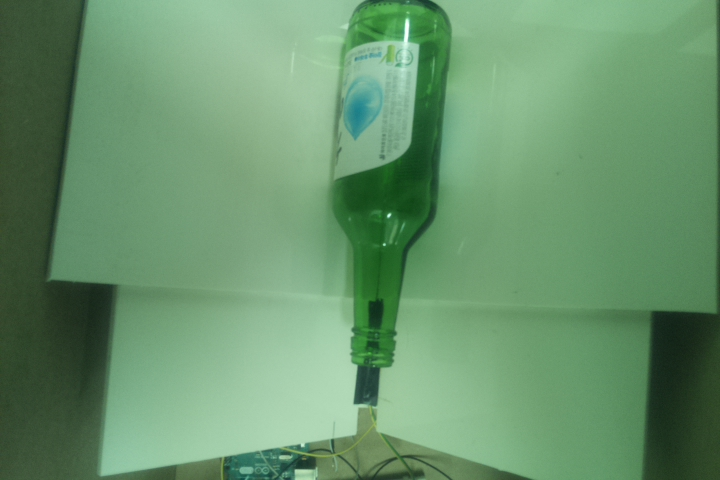soju: (324, 1, 455, 367)
